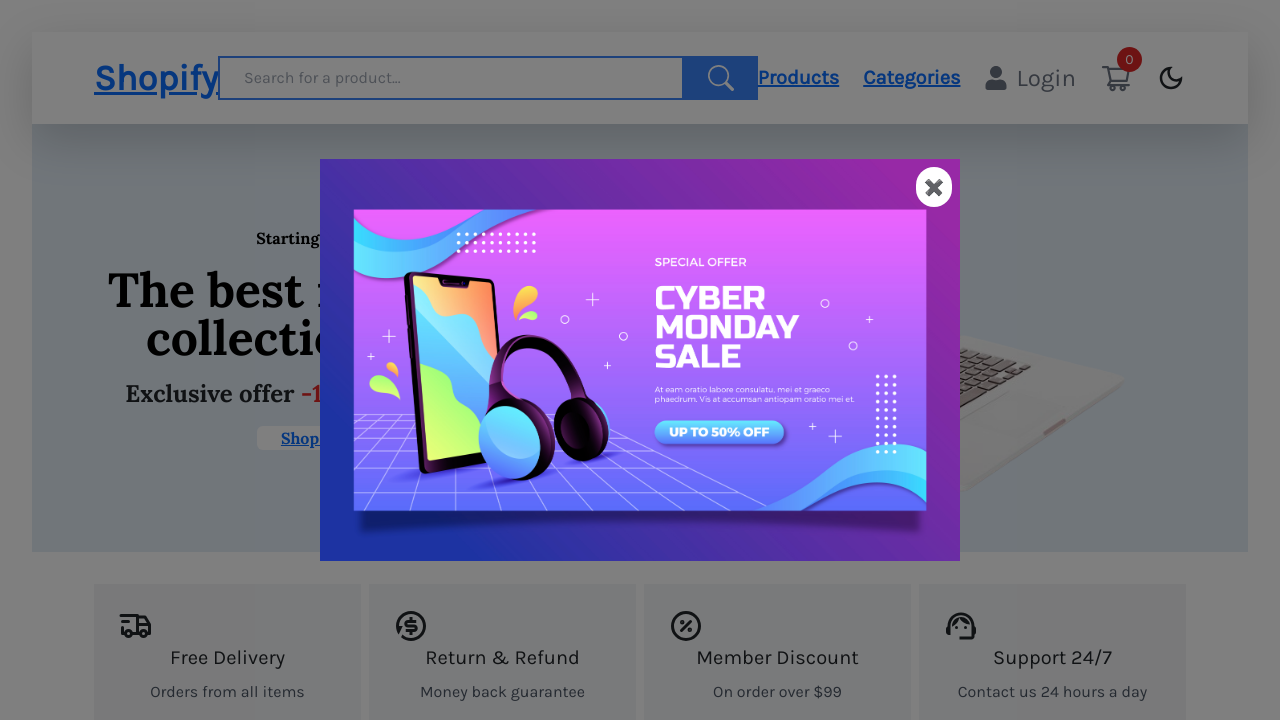
testing the cart functionalities › cart opens and close
The image size is (1280, 720).
Click the button with test id "close-popup-btn" at (934, 187), box [916,167,952,207]
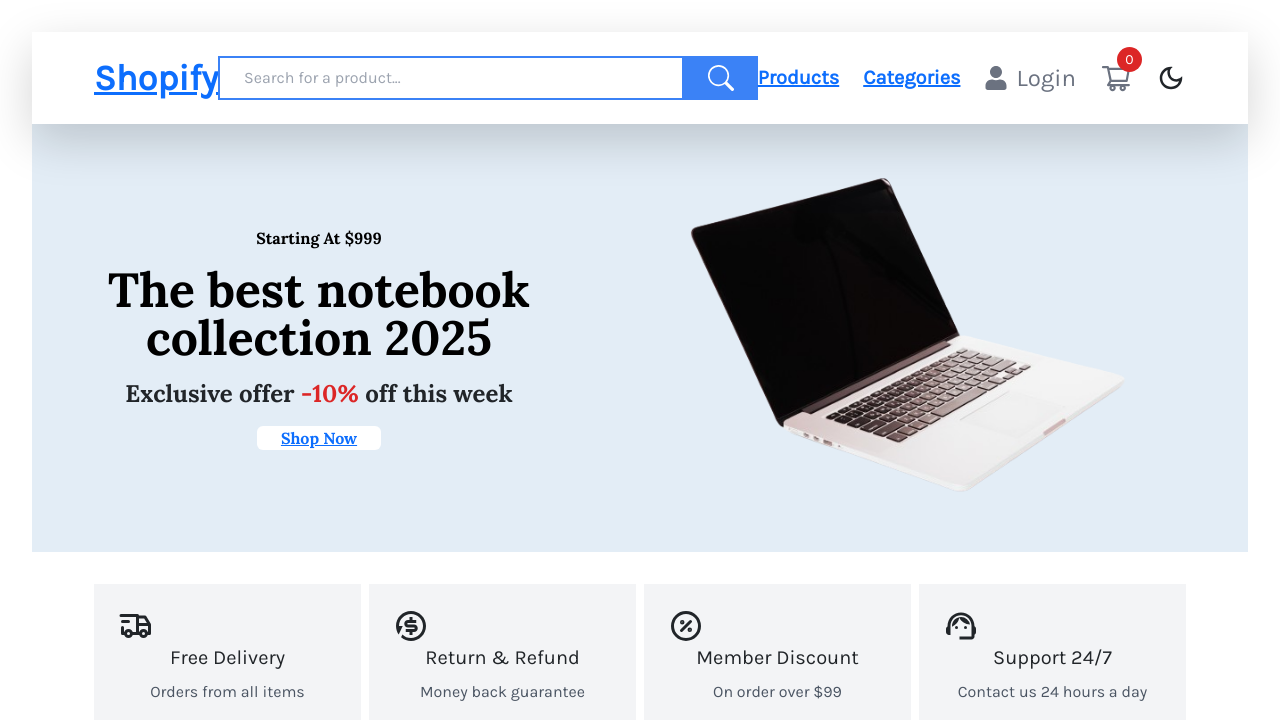
Click the text with test id "login-btn" at (1047, 78), box [1017,64,1077,92]
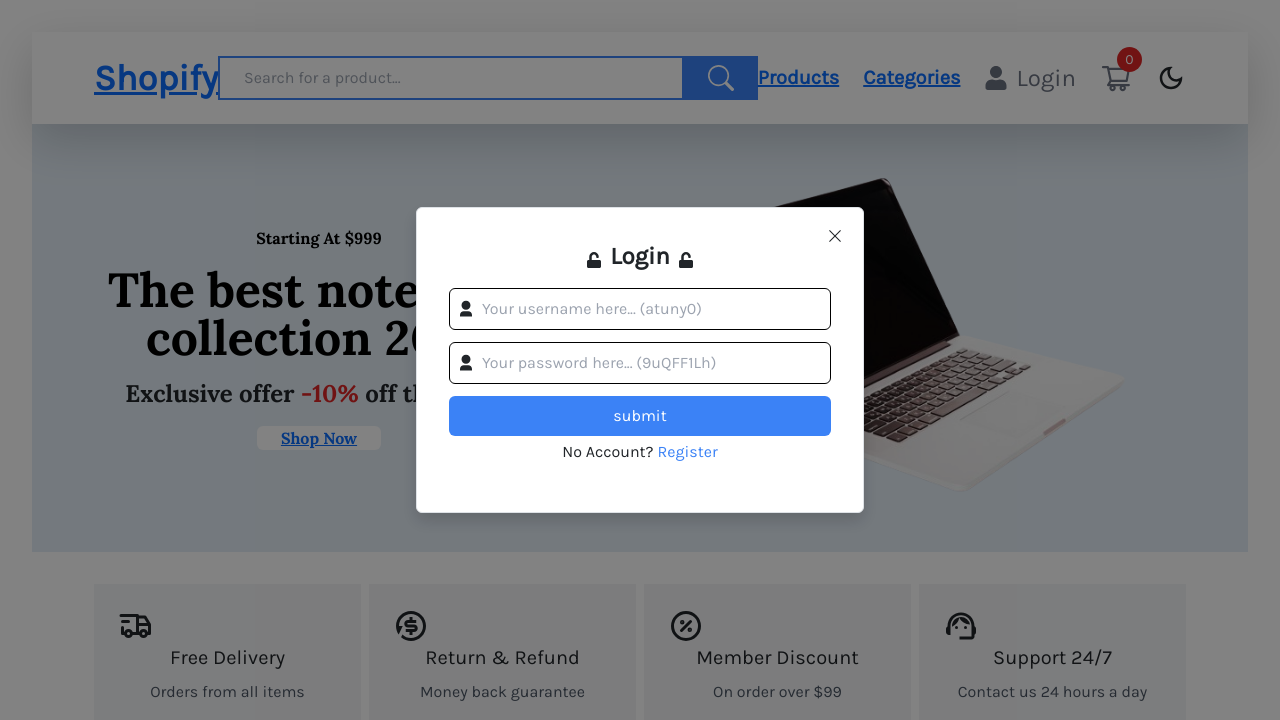
Expected: the element with test id "login-container" is shown, [416,207,864,513]
Type "atuny0" into the field with test id "input-username" at (640, 309), box [449,288,831,330]
Type "9uQFF1Lh" into the password field with test id "input-password" at (640, 363), box [449,342,831,384]
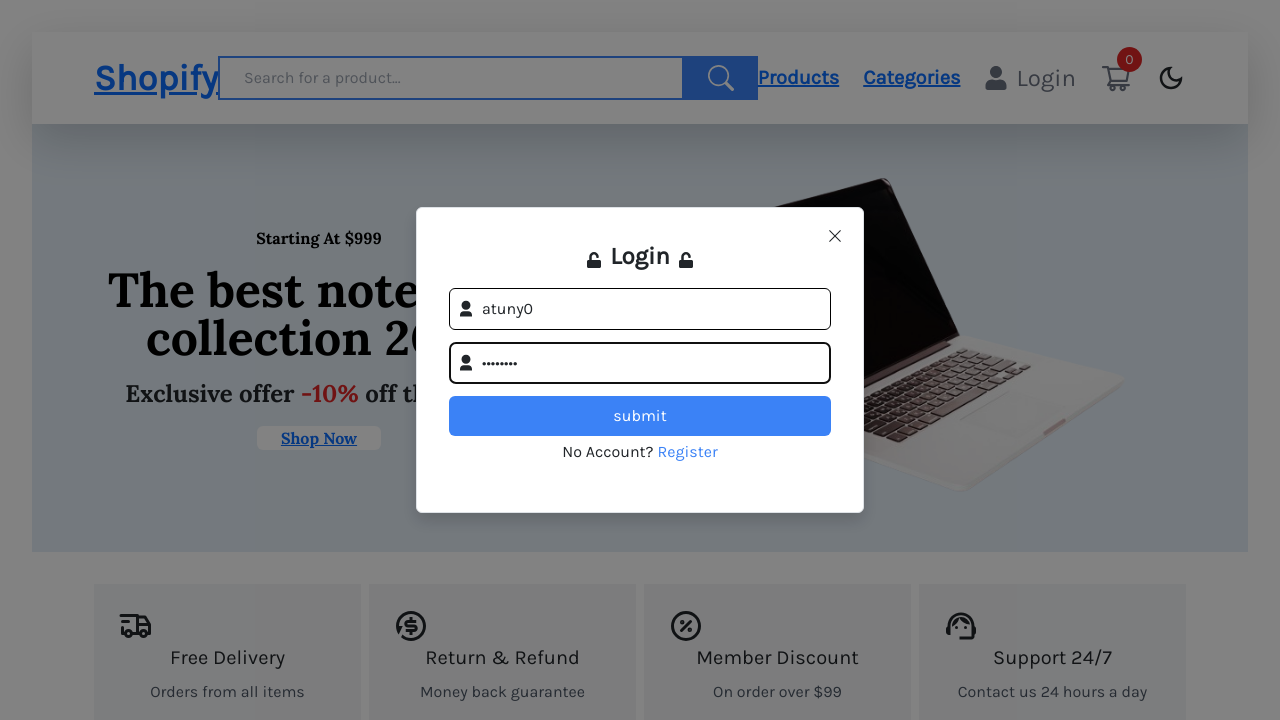
Click the button with test id "input-submit" at (640, 416), box [449,396,831,436]
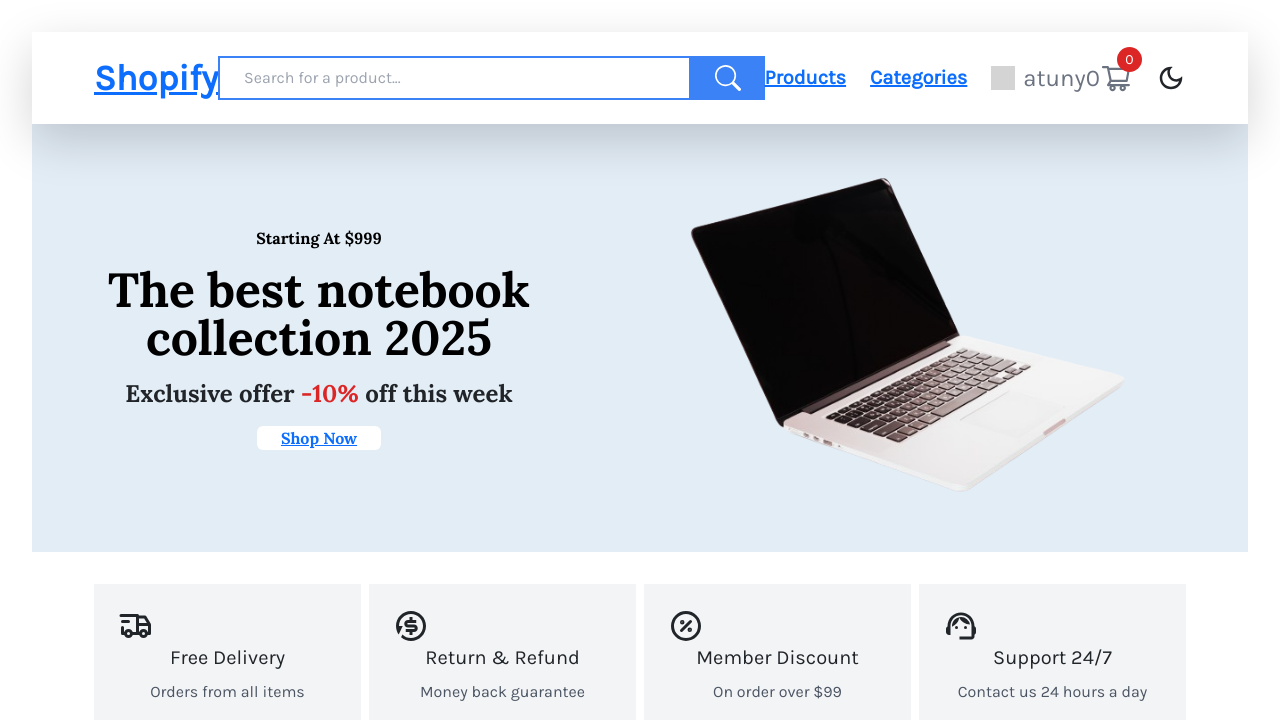
Click the element with test id "cart-btn" at (1116, 78), box [1100,62,1132,94]
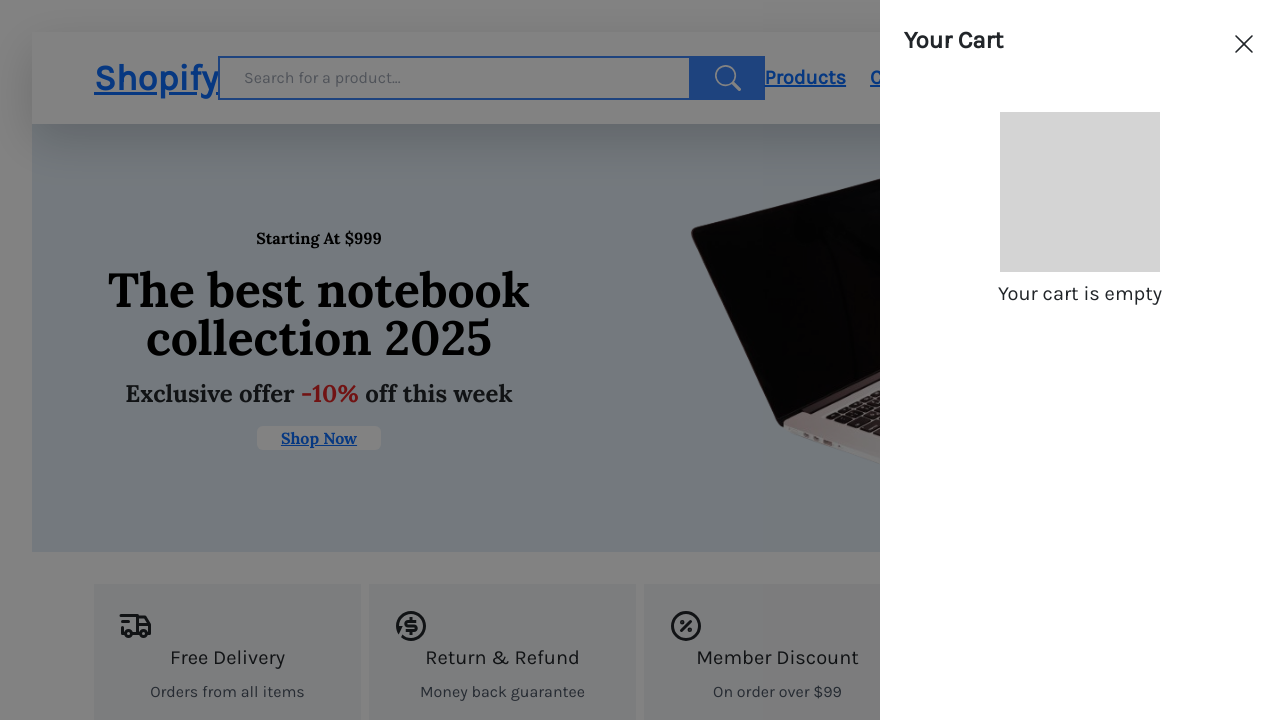
Expected: the element with test id "cart-container" is shown, [880,0,1279,719]
Expected: the text "Your cart is empty" is shown, [998,280,1162,308]
Click the icon with test id "cart-close" at (1244, 44), box [1232,32,1256,56]
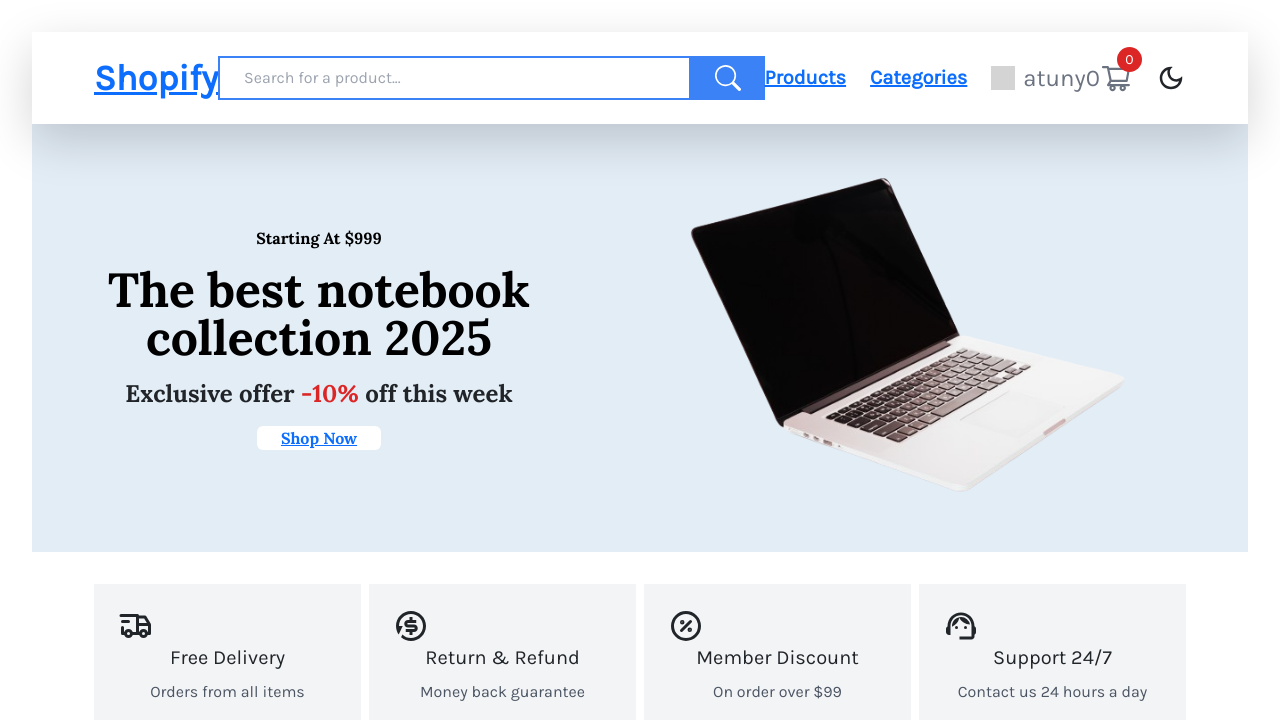
Expected: the text "Your cart is empty" is gone
